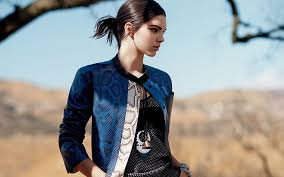noMask: (109, 3, 176, 61)
